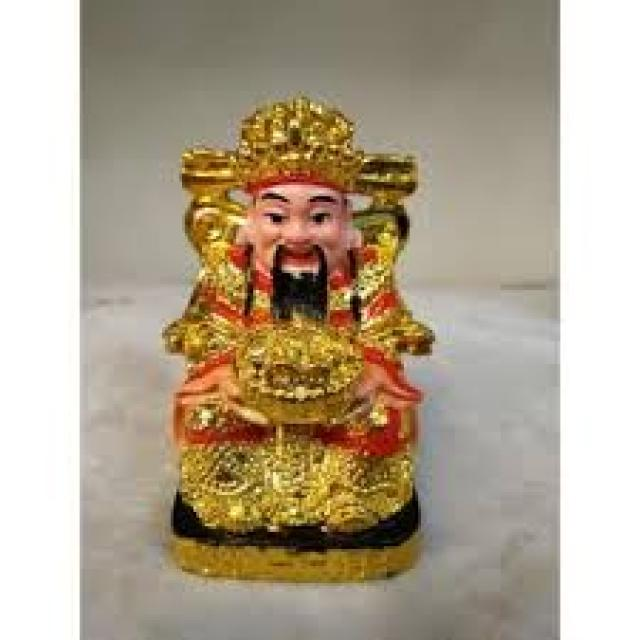Cai shen: (166, 97, 414, 551)
